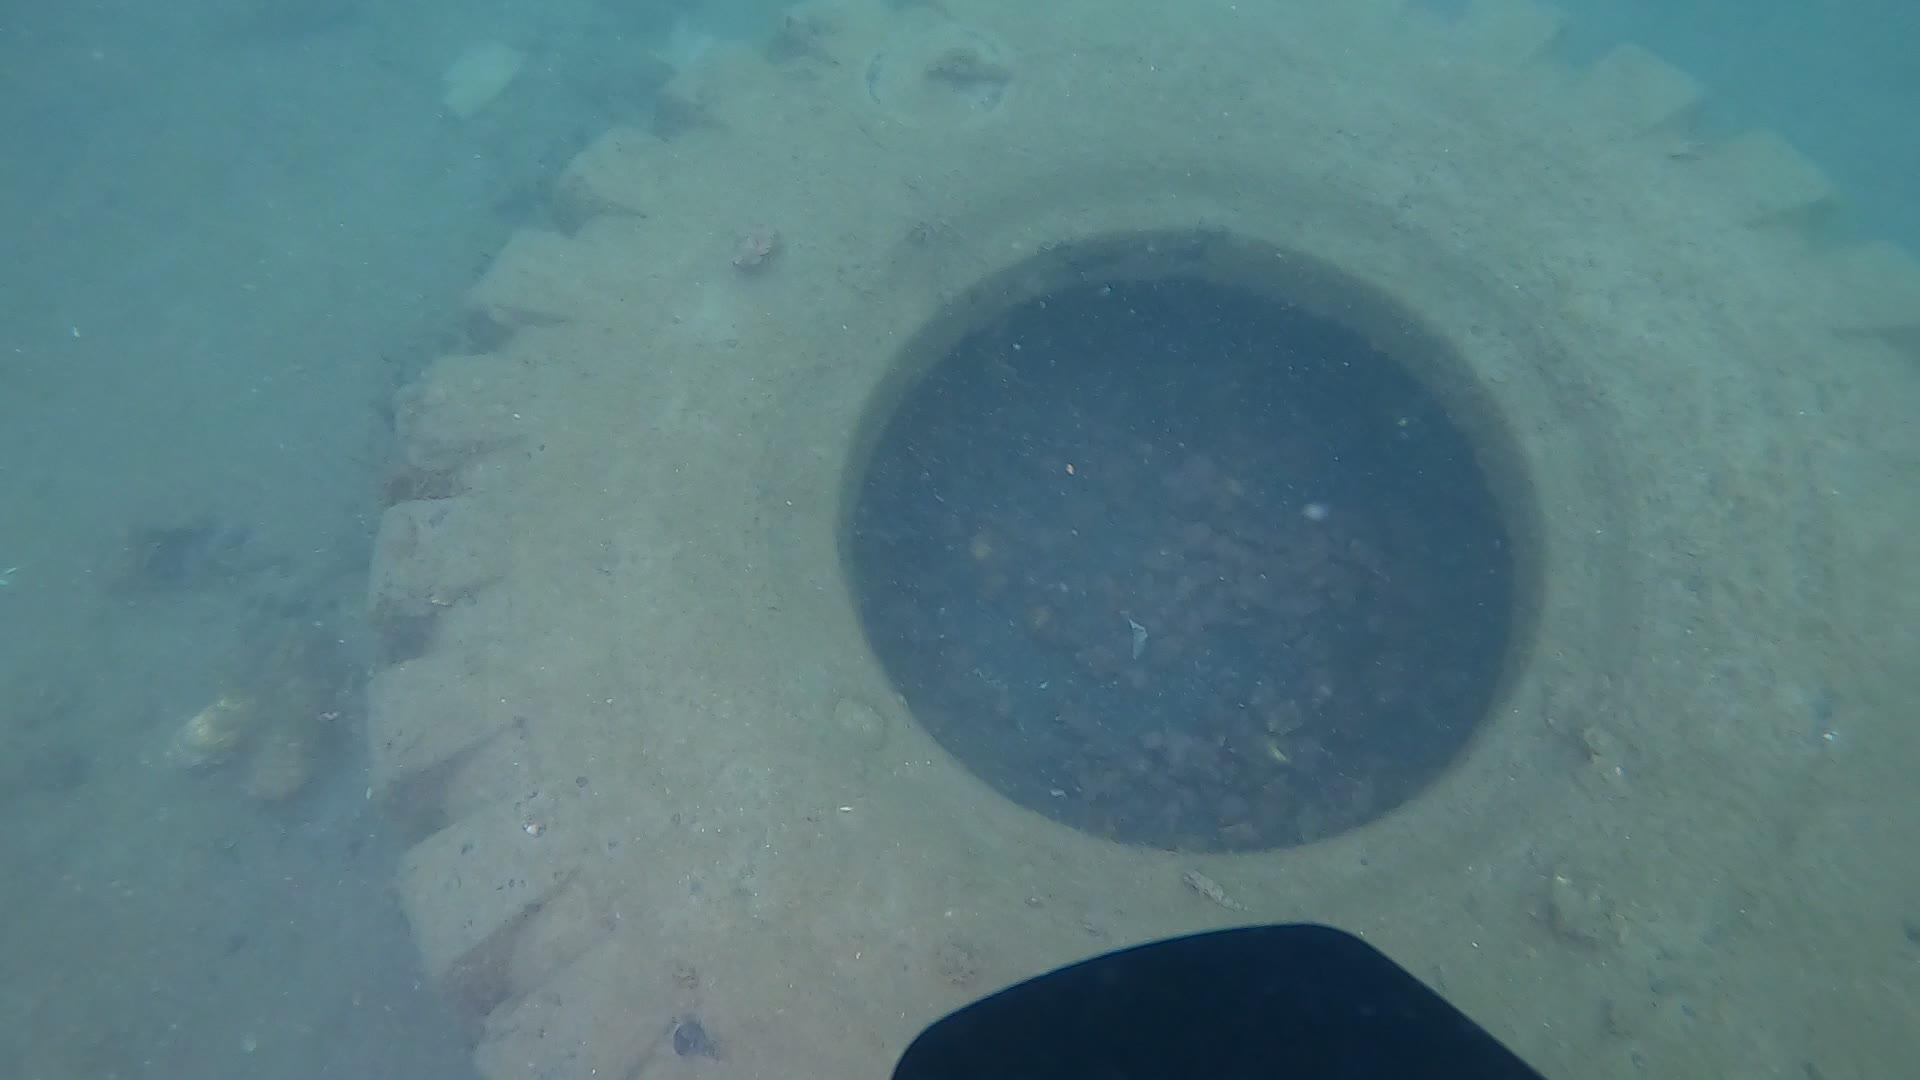tire: (360, 1, 1920, 1080)
